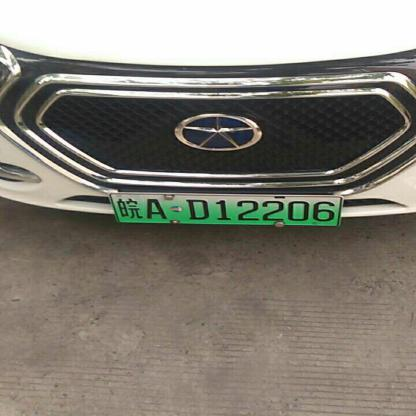lp: (111, 192, 344, 226)
